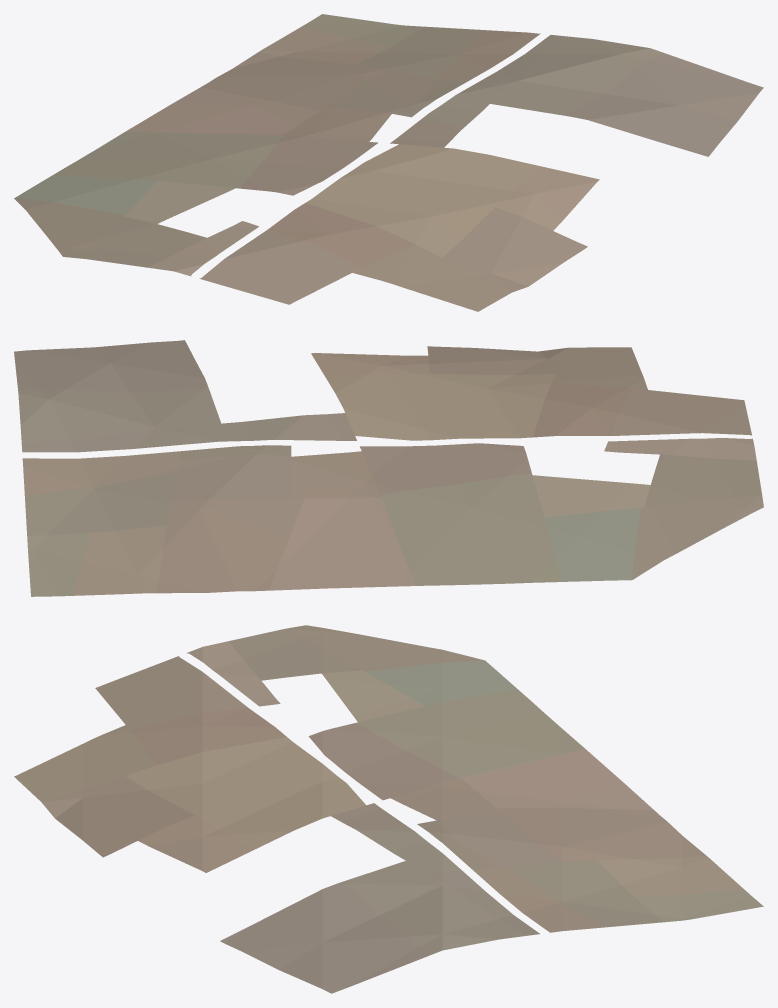
File: farm_-5_-5_soil.glb
3 renders of one model, top to bottom at view 1: azimuth 30°, elevation 25°; view 2: azimuth 150°, elevation 25°; view 3: azimuth 270°, elevation 25°, orthographic. The views are drawn at different scales.
Visible parts, largest first — view 1: geometry_0; view 2: geometry_0; view 3: geometry_0.
Boxes of the visible parts, x1=… form: geometry_0: x1=14, y1=14, x2=763, y2=311; geometry_0: x1=14, y1=340, x2=763, y2=596; geometry_0: x1=14, y1=625, x2=763, y2=993.
Size of the model in its own units: 559 by 36.08 by 500.
